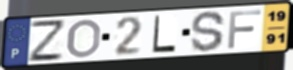2: (113, 15, 143, 57)
F: (226, 8, 264, 50)
L: (151, 14, 178, 54)
O: (65, 18, 103, 59)
S: (189, 9, 227, 54)
Z: (27, 19, 65, 64)
